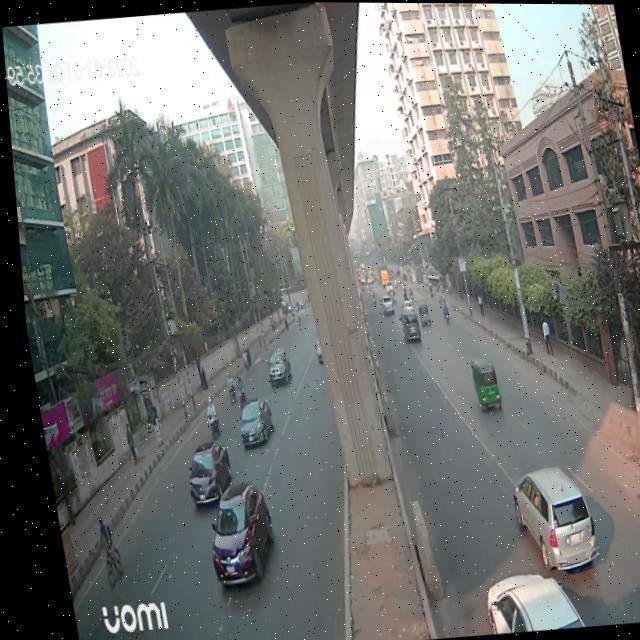cng: (463, 358, 496, 418), (407, 296, 427, 330)
